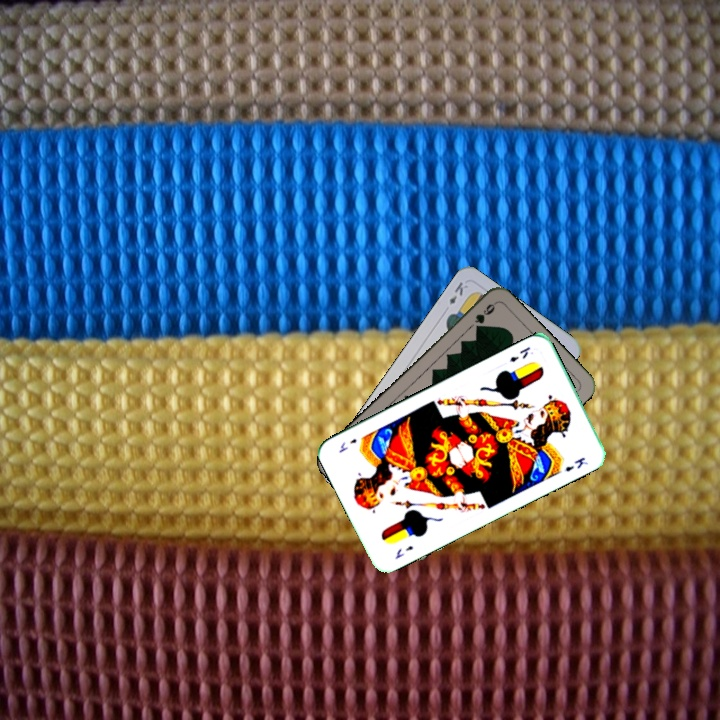EK: (445, 278, 471, 307), (506, 343, 533, 365), (391, 541, 416, 561)
G9: (470, 299, 498, 327)
